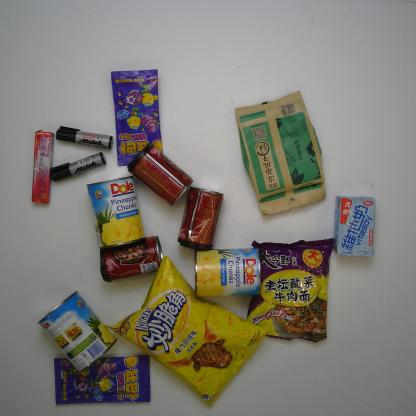Candy: (96, 57, 176, 181), (48, 345, 170, 408), (20, 121, 58, 208)
Canned Food: (35, 288, 120, 378), (81, 168, 165, 257), (124, 136, 200, 211), (90, 231, 168, 295), (172, 175, 228, 253), (190, 242, 263, 300)
Dried Food: (224, 84, 344, 220)
Instant Noodles: (247, 231, 338, 350)
Milk: (332, 186, 379, 265)
Puffed Food: (100, 253, 268, 408)
Stationery: (44, 149, 120, 185), (48, 121, 114, 154)
